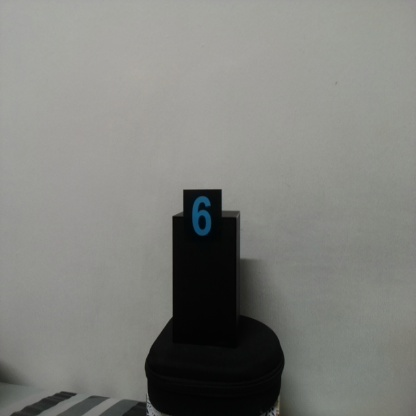id_6: (183, 191, 224, 250)
